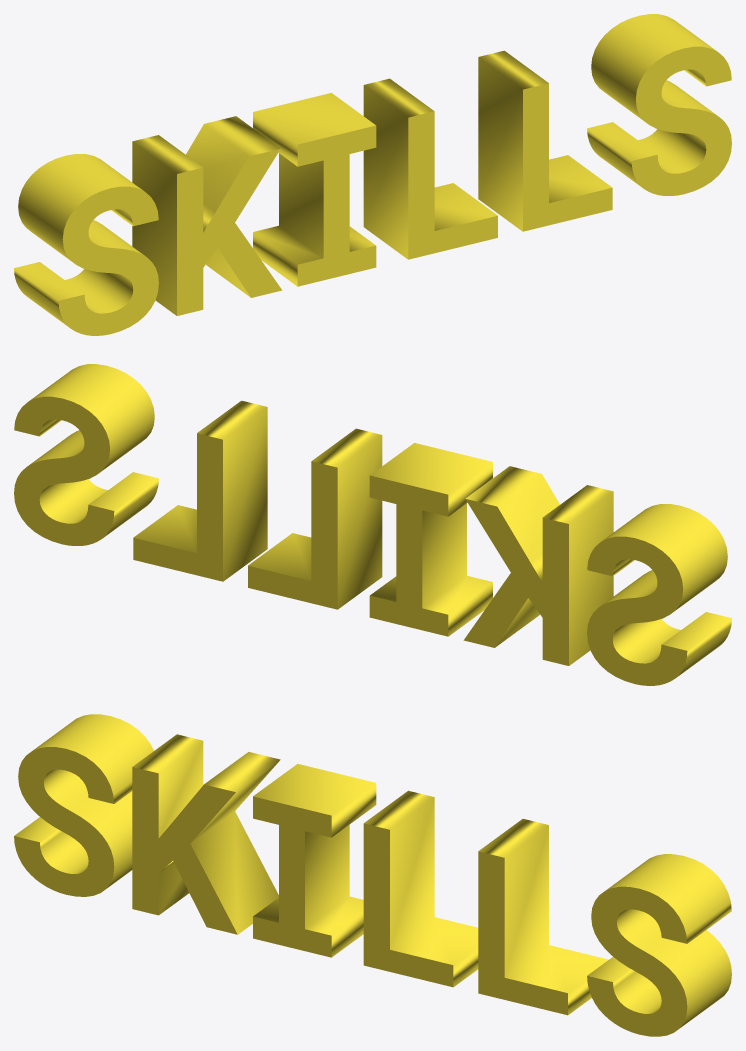
Rendered from Skills.fbx.
3 renders of one model, top to bottom at view 1: azimuth 30°, elevation 25°; view 2: azimuth 150°, elevation 25°; view 3: azimuth 330°, elevation 25°, orthographic.
Visible parts, largest first — view 1: $ColladaAutoName$_1; view 2: $ColladaAutoName$_1; view 3: $ColladaAutoName$_1.
Part boxes in pixels (<box>): $ColladaAutoName$_1: <box>14,14,731,335</box>; $ColladaAutoName$_1: <box>14,364,731,685</box>; $ColladaAutoName$_1: <box>14,714,731,1036</box>.
Size of the model in its own units: 489 by 101 by 56.2.
